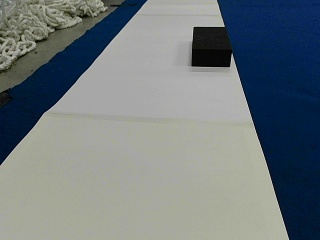block: (191, 26, 231, 67)
